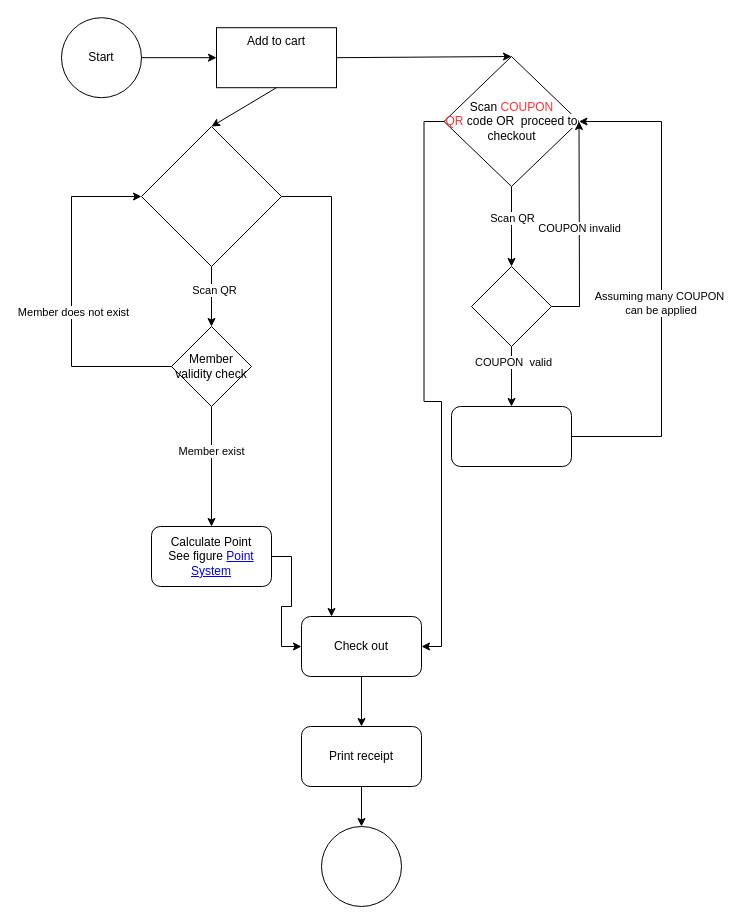
The diagram is 741 pixels wide and 924 high, and some of its shapes have lost their labels. Each missing label, with the box of its shape:
Apply discount: (450, 406, 572, 466)
COUPON code validity check: (470, 266, 552, 346)
End: (320, 826, 402, 906)
Scan MEMBER QR code OR Proceed to checkout: (140, 126, 282, 266)
